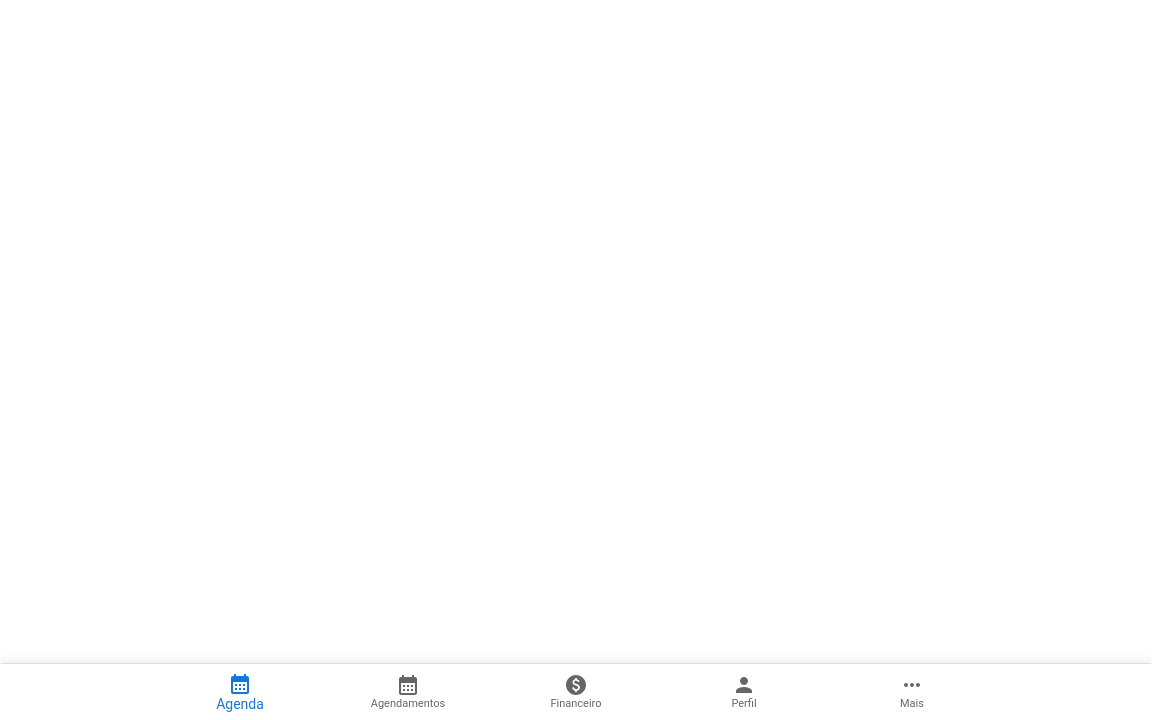
Test: MobileTabBar › renders primary admin items and opens the more drawer
Expected: the text "Agenda" is shown, 216,696 -> 264,712
Expected: the text "Agendamentos" is shown, 371,697 -> 445,711
What coordinates should you click on to do the following:
click the button "Mais"
I would click on:
 (912, 692)
Its box is 828,664 -> 996,719.
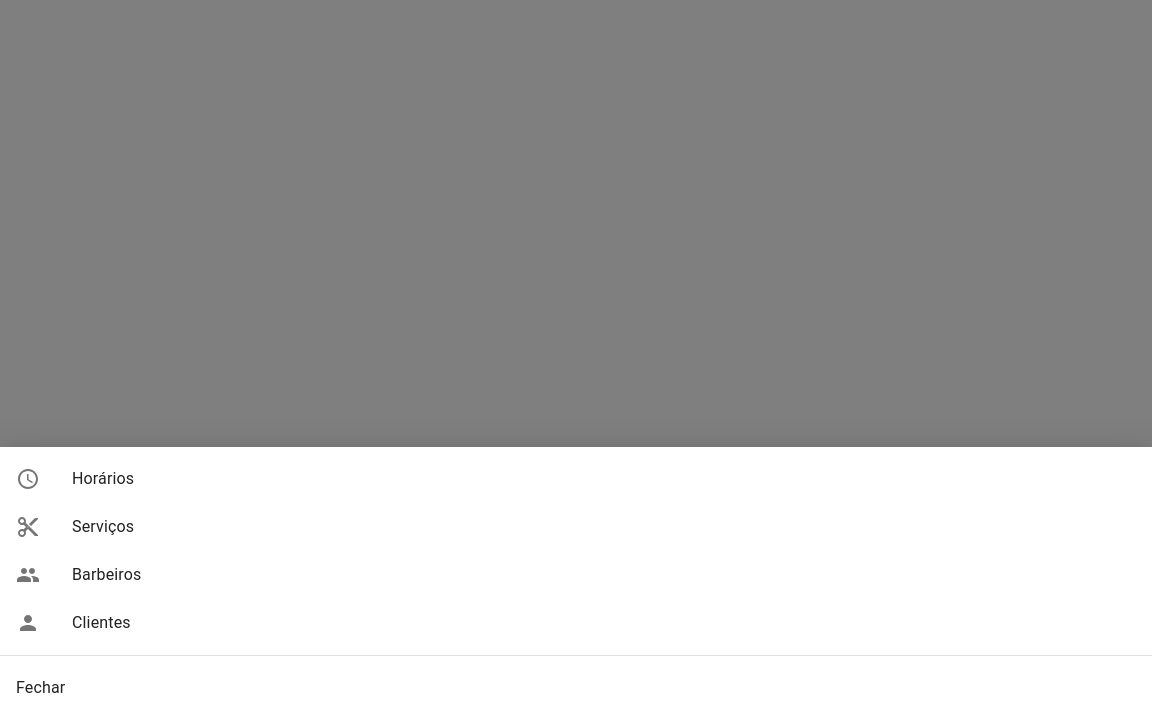
Expected: the text "Horários" is shown, 72,469 -> 134,488
Expected: the text "Serviços" is shown, 72,517 -> 134,536
Expected: the text "Barbeiros" is shown, 72,565 -> 142,584
